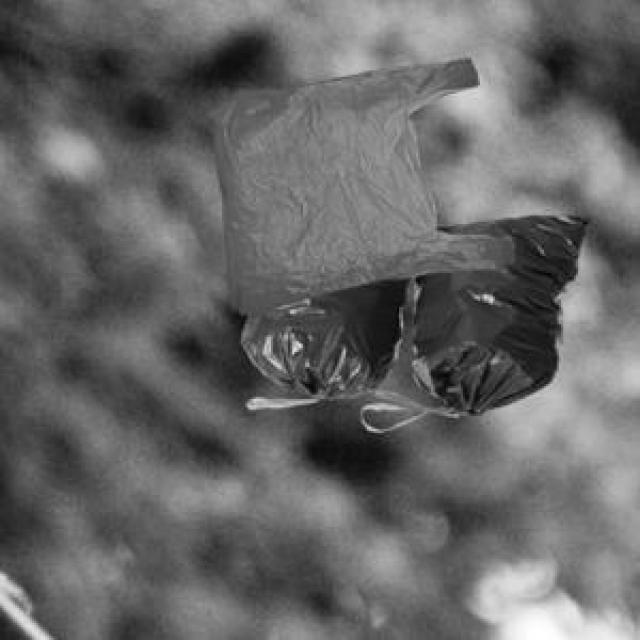miscellaneous trash: (237, 211, 586, 414)
